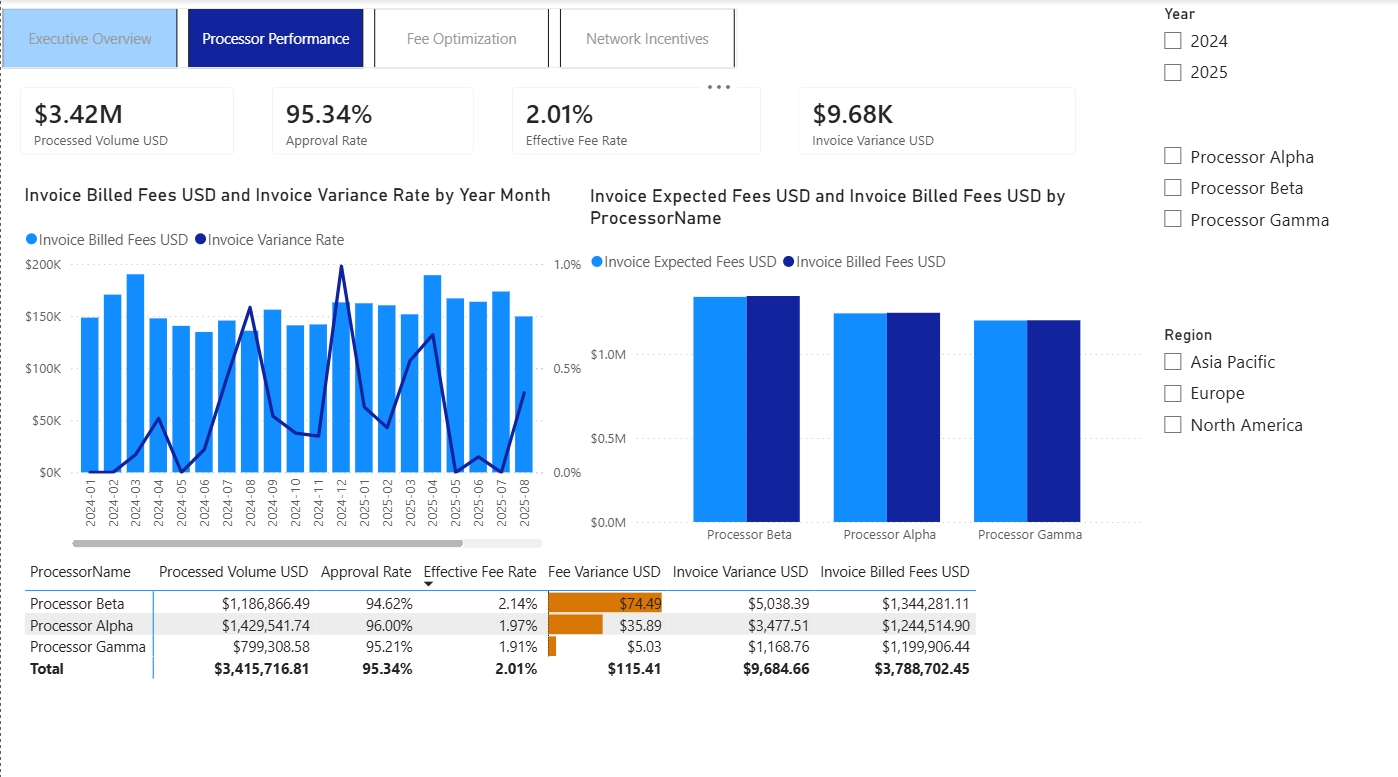

Layout of this report page (visuals, bound fields, positions):
{"tool":"powerbi","page":{"name":"Processor Performance","canvas":[1280,720],"ordinal":1},"visuals":[{"type":"slicer","fields":{"Values":["DimProcessor.ProcessorName"]},"box":[1051.4,105.1,228.6,189],"z":0},{"type":"slicer","fields":{"Values":["DimMarket.Region"]},"box":[1051.4,294.1,228.6,187.4],"z":1000},{"type":"cardVisual","fields":{"Data":["AllMeasures.Processed Volume USD"]},"box":[0,63.1,230.6,96.1],"z":2000},{"type":"cardVisual","fields":{"Data":["AllMeasures.Approval Rate"]},"box":[230.6,63.1,219.6,96.1],"z":3000},{"type":"cardVisual","fields":{"Data":["AllMeasures.Effective Fee Rate"]},"box":[450.1,63.1,262.1,96.1],"z":4000},{"type":"cardVisual","fields":{"Data":["AllMeasures.Invoice Variance USD"]},"box":[711.6,62.5,288,96],"z":5000},{"type":"lineStackedColumnComboChart","fields":{"Category":["DimDate.Year Month"],"Y":["AllMeasures.Invoice Billed Fees USD"],"Y2":["AllMeasures.Invoice Variance Rate"]},"box":[16.8,169.1,519.6,338.3],"z":6000},{"type":"clusteredColumnChart","fields":{"Category":["DimProcessor.ProcessorName"],"Y":["AllMeasures.Invoice Expected Fees USD","AllMeasures.Invoice Billed Fees USD"]},"box":[534.3,169.7,515,338.3],"z":7000},{"type":"pivotTable","fields":{"Rows":["DimProcessor.ProcessorName"],"Values":["AllMeasures.Processed Volume USD","AllMeasures.Approval Rate","AllMeasures.Effective Fee Rate","AllMeasures.Fee Variance USD","AllMeasures.Invoice Variance USD","AllMeasures.Invoice Billed Fees USD"]},"box":[16.8,507.4,1034.7,213.3],"z":8000},{"type":"slicer","fields":{"Values":["DimDate.Year"]},"box":[1051.4,0,213.3,126.5],"z":9000},{"type":"pageNavigator","box":[1.9,7.7,672.1,55.8],"z":10000}]}

Visuals, with their boxes in screenshot pixels (x1, y1, x2, y2), scaled from the page's 1280x720 canvas onto the 1398x777 screenshot:
slicer - DimProcessor.ProcessorName: detection(1148, 113, 1397, 317)
slicer - DimMarket.Region: detection(1148, 317, 1397, 520)
cardVisual - AllMeasures.Processed Volume USD: detection(0, 68, 252, 172)
cardVisual - AllMeasures.Approval Rate: detection(252, 68, 492, 172)
cardVisual - AllMeasures.Effective Fee Rate: detection(492, 68, 778, 172)
cardVisual - AllMeasures.Invoice Variance USD: detection(777, 67, 1092, 171)
lineStackedColumnComboChart - DimDate.Year Month x AllMeasures.Invoice Billed Fees USD: detection(18, 182, 586, 548)
clusteredColumnChart - DimProcessor.ProcessorName x AllMeasures.Invoice Expected Fees USD: detection(584, 183, 1146, 548)
pivotTable - DimProcessor.ProcessorName x AllMeasures.Processed Volume USD: detection(18, 548, 1148, 776)
slicer - DimDate.Year: detection(1148, 0, 1381, 137)
pageNavigator: detection(2, 8, 736, 69)
